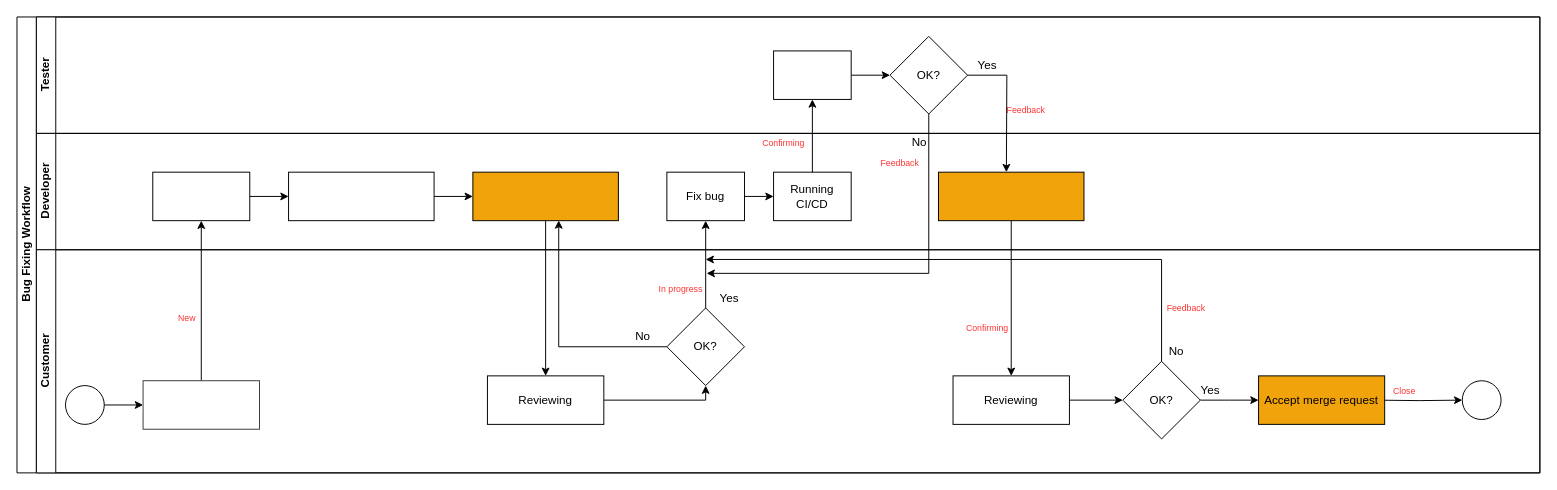
The diagram is 1557 pixels wide and 490 high, and some of its shapes have lost their labels. Each missing label, with the centre of its shape:
"Analysis bug" belongs at point (201, 196).
"Create investigation report" belongs at point (361, 196).
"Create merge request" belongs at point (1011, 196).
"Create new issue gitlab" belongs at point (545, 196).
"Register new issue on Redmine" belongs at point (200, 404).
"Testing" belongs at point (812, 74).
